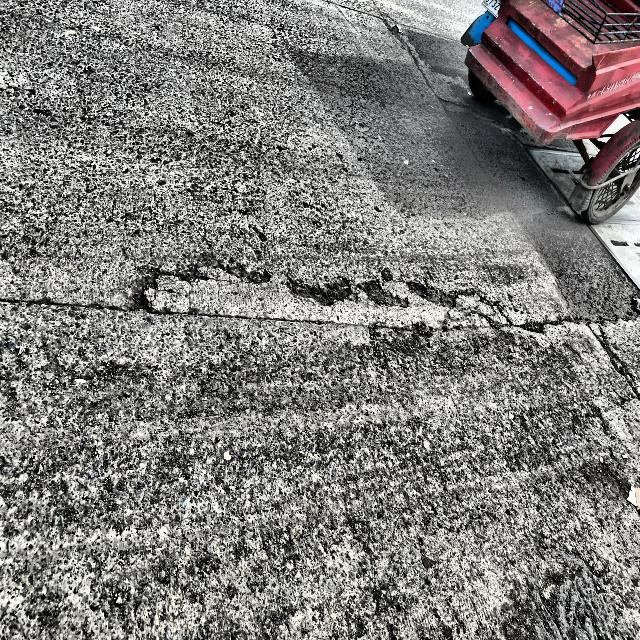major_scaling: (0, 311, 561, 638)
